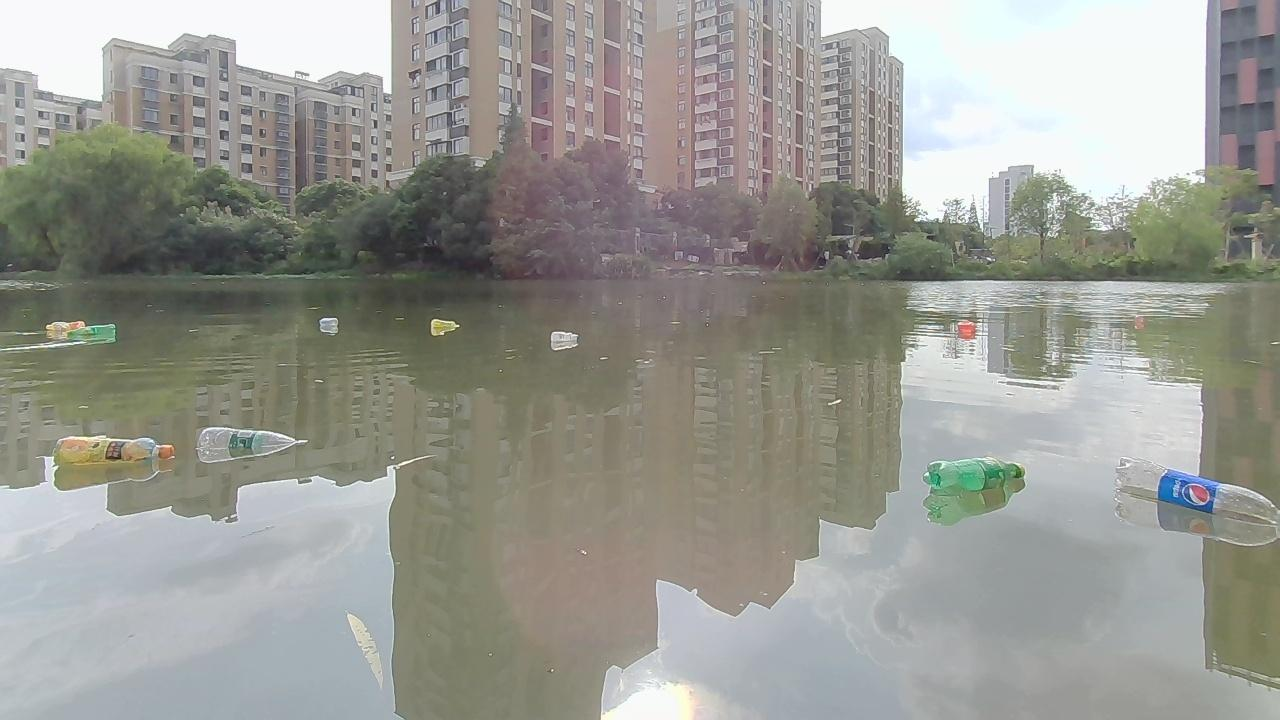bottle: (1112, 454, 1279, 528), (51, 432, 176, 472), (927, 452, 1025, 496), (188, 427, 310, 462), (546, 326, 581, 352), (951, 312, 981, 342), (66, 323, 115, 341), (42, 317, 82, 335), (431, 318, 463, 339), (316, 313, 336, 329)
